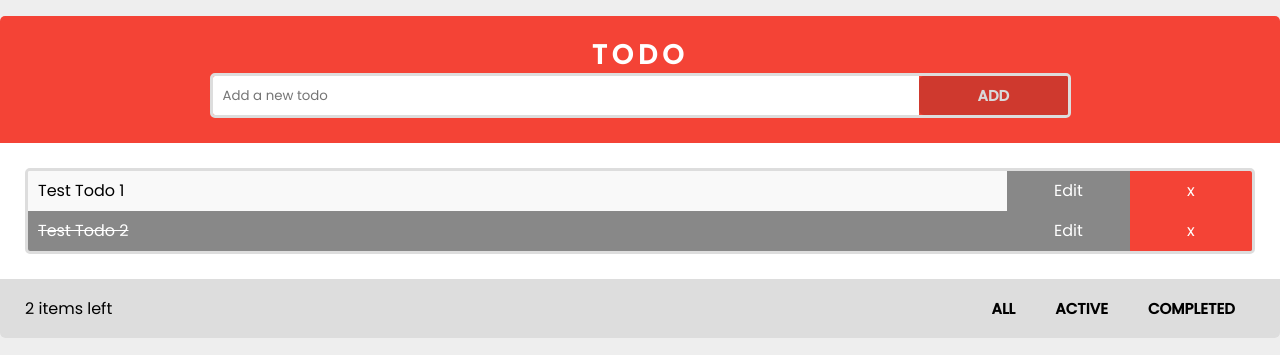
it: TodoComp › edits a todo
Expected: the text "Test Todo 1" is shown, top-left (38, 179), bottom-right (124, 202)
Step 1. Click the text "Edit" in the row of "Test Todo 1" → (1068, 191), box top-left (1007, 171), bottom-right (1130, 211)
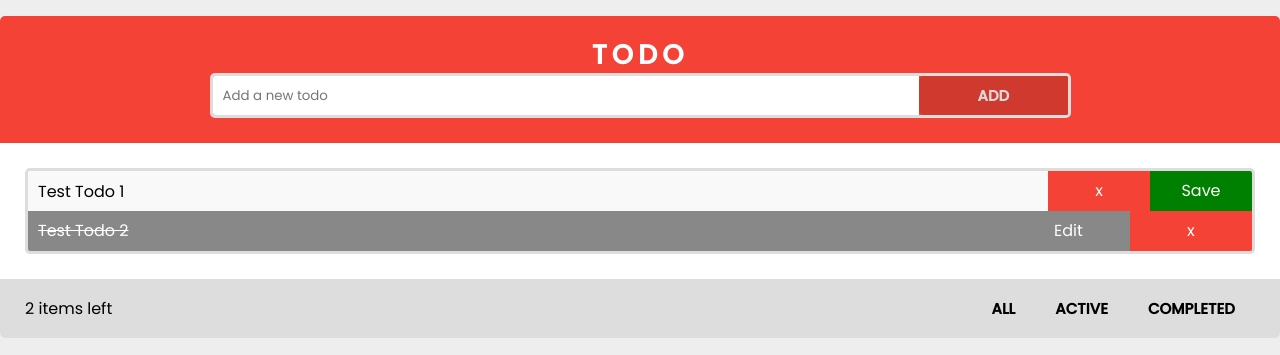
Step 2. Replace the text in the field showing "Test Todo 1" with "Updated Todo" → (436, 191), box top-left (28, 171), bottom-right (844, 211)
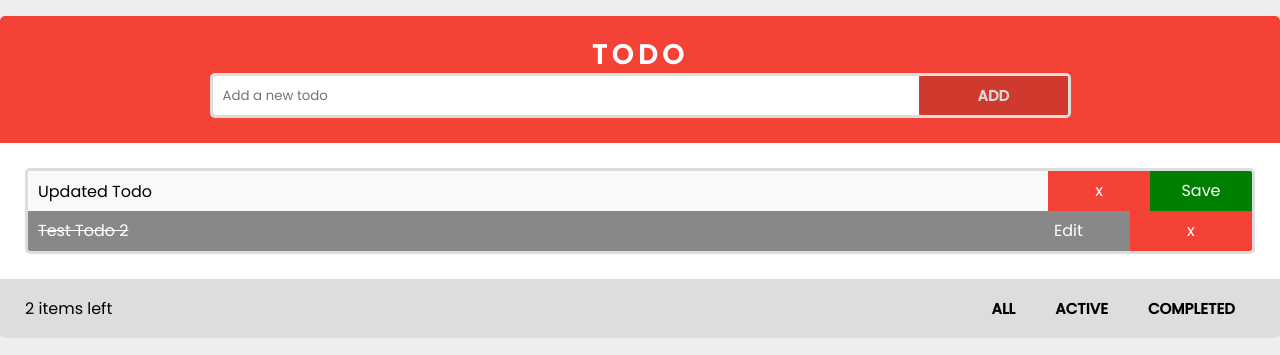
Step 3. Click the text "Save" → (1201, 191), box top-left (1150, 171), bottom-right (1252, 211)
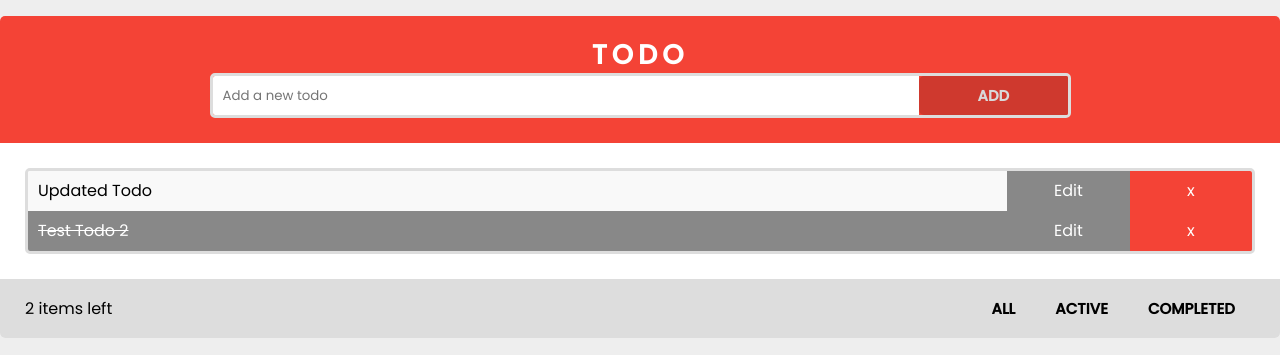
Result: the text "Updated Todo" is shown at top-left (38, 179), bottom-right (152, 202)
